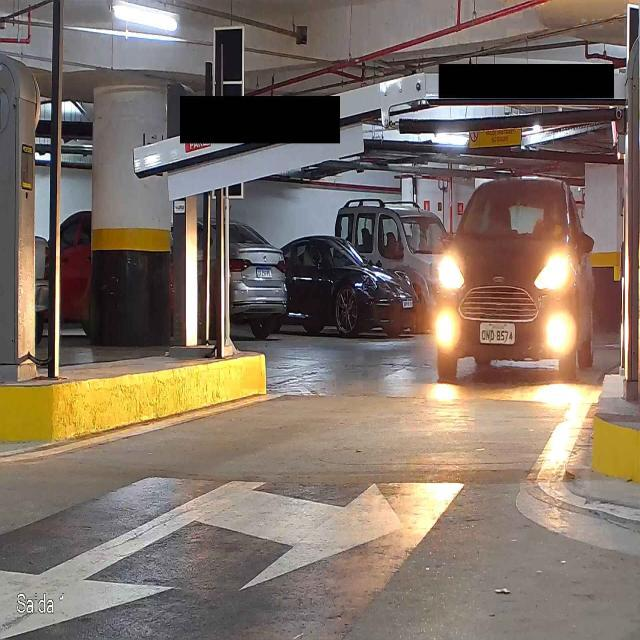old_plate: (478, 322, 516, 345)
